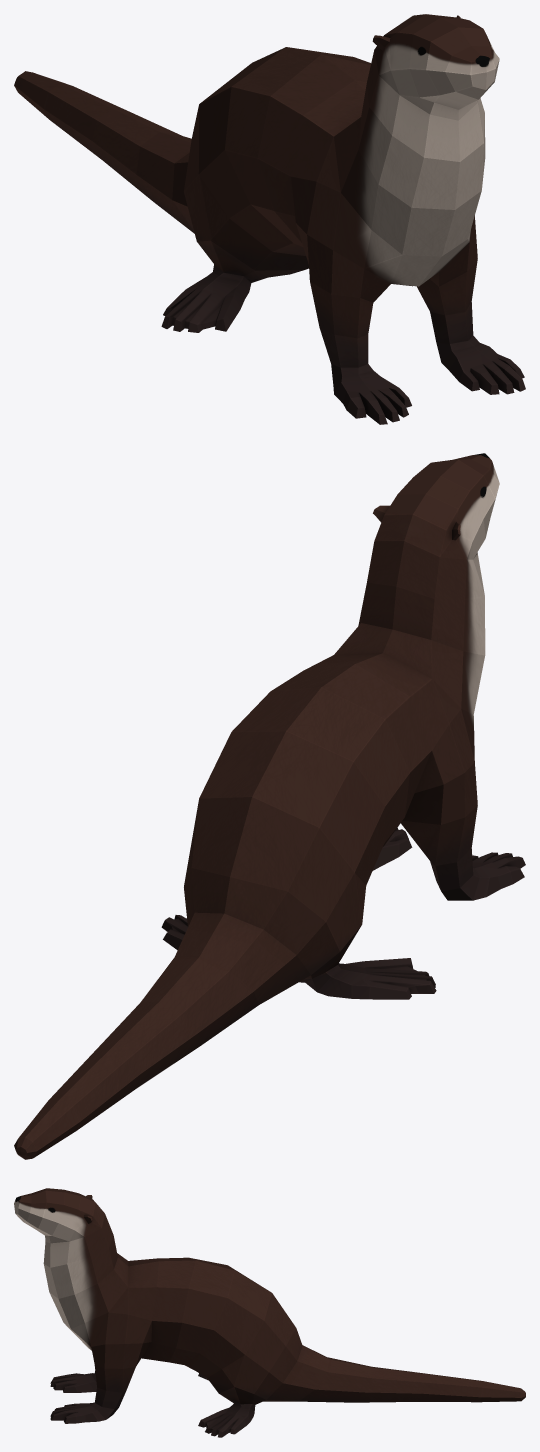
Rendered from RiverOtter.obj.
3 views of the same model, one above another, from view 1: azimuth 30°, elevation 25°; view 2: azimuth 150°, elevation 25°; view 3: azimuth 270°, elevation 25° (orthographic). The views are drawn at different scales.
Parts seen in each view (by area): view 1: RiverOtter_Mesh; view 2: RiverOtter_Mesh; view 3: RiverOtter_Mesh.
Part boxes in pixels (box(x1,y1,x2,y2)): RiverOtter_Mesh: box(14, 14, 525, 424); RiverOtter_Mesh: box(14, 453, 525, 1159); RiverOtter_Mesh: box(14, 1188, 525, 1437).
Bounding box in the file's own units: 3.24 × 4.36 × 9.59.
Materials: 1 (1 with a texture image).
